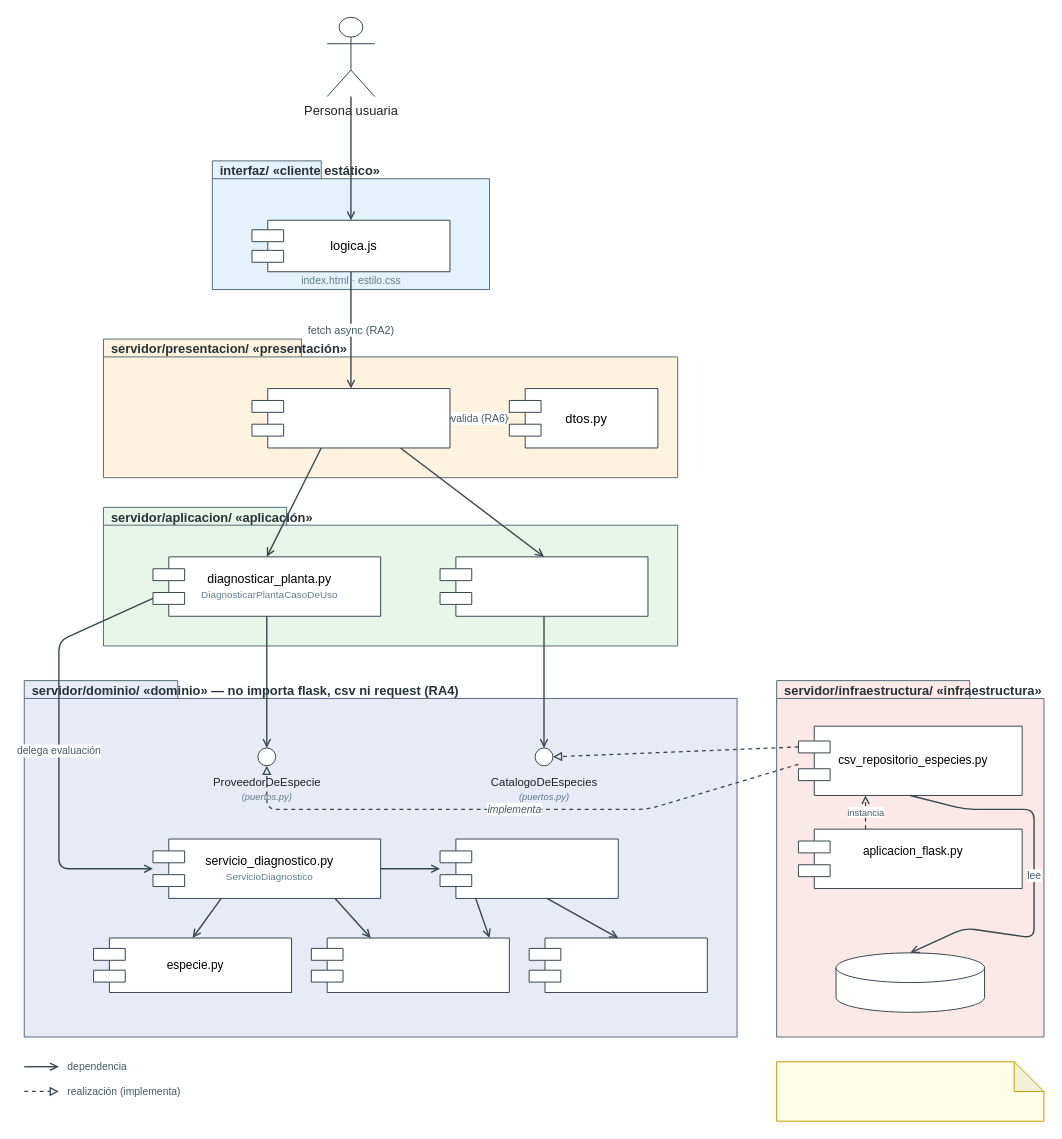
This 1062x1139 diagram has some shape labels left out. Each missing label, with the centre of its shape:
controladores.py diagnosticar / listar_especies: point (350, 418)
entidades.py: point (409, 964)
especies.csv: point (910, 982)
evaluador.py: point (528, 868)
excepciones.py: point (617, 964)
listar_especies.py ListarEspeciesCasoDeUso: point (543, 586)
RA5/DIP: la realización va de infraestructura hacia el dominio, nunca al revés.: point (910, 1091)
